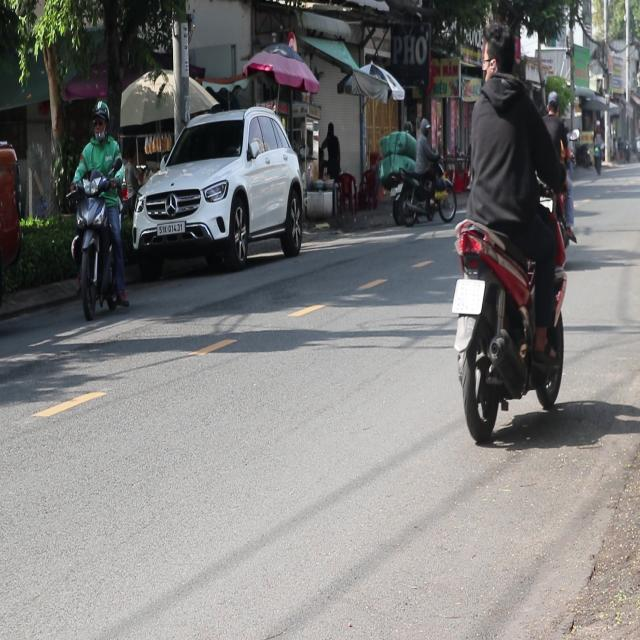helmet: (90, 100, 110, 139)
licenseplate: (447, 12, 574, 446), (67, 98, 129, 318)
motorcyclist: (479, 21, 515, 84)
nohelmet: (452, 278, 484, 312)
